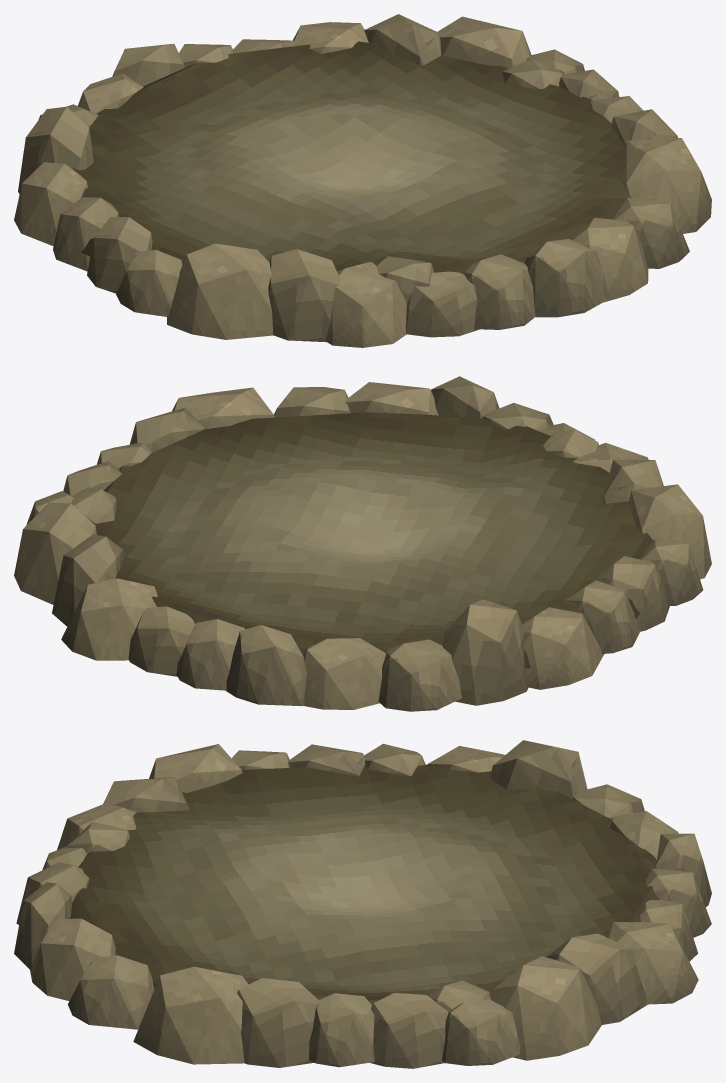
File: BushPlanter.fbx
3 renders of one model, top to bottom at view 1: azimuth 30°, elevation 25°; view 2: azimuth 150°, elevation 25°; view 3: azimuth 270°, elevation 25°, orthographic. The views are drawn at different scales.
Parts seen in each view (by area): view 1: BushPlanter; view 2: BushPlanter; view 3: BushPlanter.
Boxes of the visible parts, box(x1,y1,x2,y2) form: BushPlanter: box(14, 14, 711, 347); BushPlanter: box(14, 376, 711, 711); BushPlanter: box(14, 740, 711, 1068).
Bounding box in the file's own units: 158 × 21.4 × 163.
Materials: 1 (1 with a texture image).
